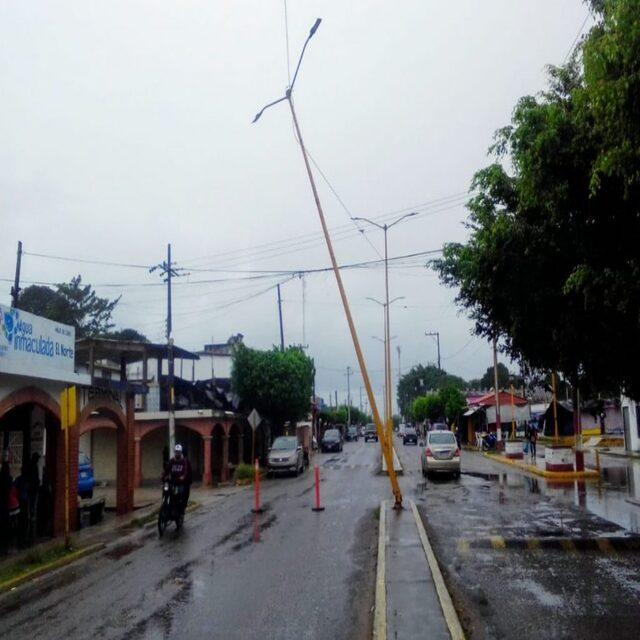Inclined Pole: (248, 15, 405, 509)
